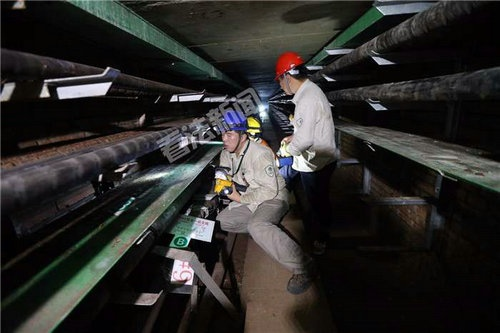blue: (218, 110, 246, 154)
red: (274, 48, 310, 102)
